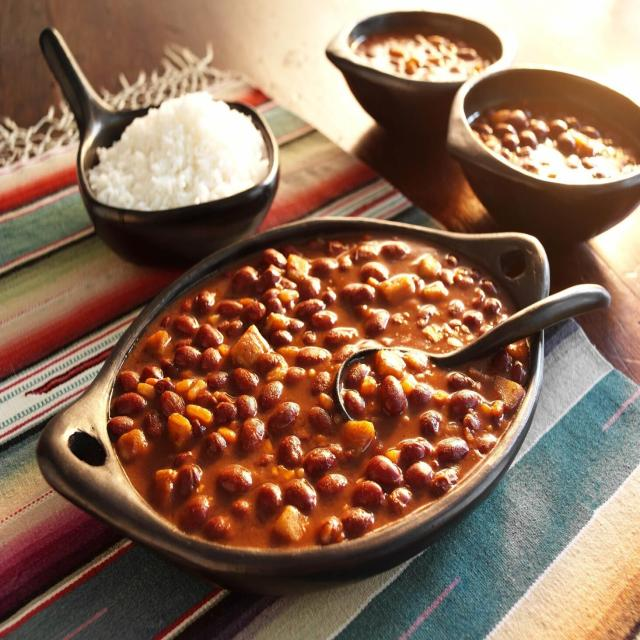arroz: (82, 84, 271, 212)
frijoles: (85, 234, 548, 550)
